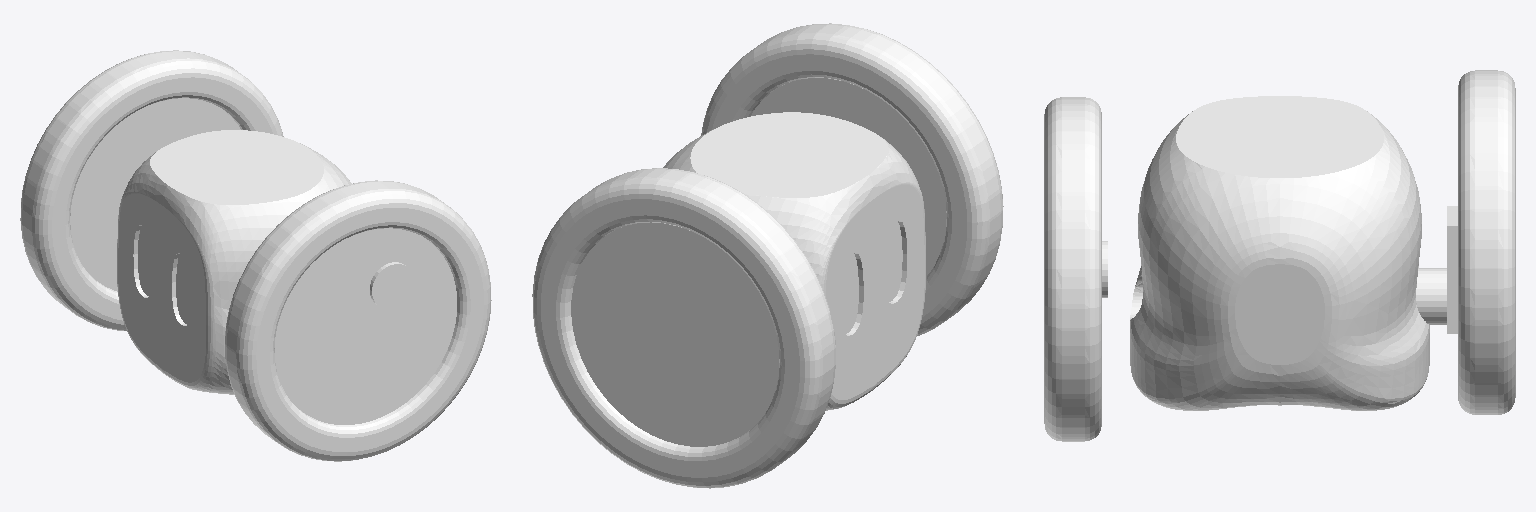
URDF robot description (dipan3):
<?xml version="1.0" encoding="utf-8"?>
<!-- ========================================
     两轮机器人URDF文件（带详细注释）
     从SolidWorks导出，已修正mesh路径
     ======================================== -->
<robot name="dipan3">

  <!-- ========================================
       车身 (base_link)
       ======================================== -->
  <link name="base_link">
    <!-- 惯性参数（从SolidWorks自动计算） -->
    <inertial>
      <!-- origin: 质心位置和姿态
           xyz: 质心相对于link坐标系的位置 [x, y, z] (米)
           rpy: 质心的姿态 [roll, pitch, yaw] (弧度) -->
      <origin xyz="-0.0457968657842876 -0.180241780708222 0.168747438914393" rpy="0 0 0"/>

      <!-- mass: 质量 (kg) -->
      <mass value="2.34280452853847"/>

      <!-- inertia: 惯性矩阵
           ixx, iyy, izz: 对角元素
           ixy, ixz, iyz: 非对角元素 -->
      <inertia ixx="0.0270841555878279" ixy="5.27026246917446E-06" ixz="0.000518162889673859"
               iyy="0.0245632562724463" iyz="-2.85242084819199E-05" izz="0.0250526892590732"/>
    </inertial>

    <!-- 视觉模型（用于显示） -->
    <visual>
      <origin xyz="0 0 0" rpy="0 0 0"/>
      <geometry>
        <!-- mesh: STL文件路径 -->
        <mesh filename="meshes/base_link.STL"/>
      </geometry>
      <material name="">
        <!-- color: RGBA颜色 [红, 绿, 蓝, 透明度]，范围0-1 -->
        <color rgba="1 1 1 1"/>
      </material>
    </visual>

    <!-- 碰撞模型（用于物理仿真） -->
    <collision>
      <origin xyz="0 0 0" rpy="0 0 0"/>
      <geometry>
        <mesh filename="meshes/base_link.STL"/>
      </geometry>
    </collision>
  </link>

  <!-- ========================================
       左侧轴 (left_link)
       ======================================== -->
  <link name="left_link">
    <inertial>
      <origin xyz="-0.0303803213063577 -0.0119270745134744 -0.0376376933793964" rpy="0 0 0"/>
      <mass value="0.128539816339745"/>
      <inertia ixx="5.54411480230313E-05" ixy="-2.47771833064358E-05" ixz="-2.50049220086457E-05"
               iyy="0.000108825591833062" iyz="-9.81673514882238E-06" izz="0.000118216123210881"/>
    </inertial>
    <visual>
      <origin xyz="0 0 0" rpy="0 0 0"/>
      <geometry>
        <mesh filename="meshes/left_link.STL"/>
      </geometry>
      <material name="">
        <color rgba="1 1 1 1"/>
      </material>
    </visual>
    <collision>
      <origin xyz="0 0 0" rpy="0 0 0"/>
      <geometry>
        <mesh filename="meshes/left_link.STL"/>
      </geometry>
    </collision>
  </link>

  <!-- ========================================
       左髋关节 (left_hip_joint)
       连接 base_link 和 left_link
       ======================================== -->
  <joint name="left_hip_joint" type="continuous">
    <!-- origin: 子link相对于父link的位置和姿态
         xyz: 位置偏移 [x, y, z] (米)
         rpy: 姿态 [roll, pitch, yaw] (弧度) -->
    <origin xyz="-0.018768 -0.36 0.1774" rpy="1.5708 -0.55608 0"/>

    <!-- parent: 父link -->
    <parent link="base_link"/>

    <!-- child: 子link -->
    <child link="left_link"/>

    <!-- axis: 关节旋转轴方向 [x, y, z]
         [1, 0, 0] = 绕X轴旋转
         [0, 1, 0] = 绕Y轴旋转
         [0, 0, 1] = 绕Z轴旋转

         ⚠️ 修改这里可以改变关节的旋转方向 -->
    <axis xyz="0 0 1"/>

    <!-- type: 关节类型
         continuous: 连续旋转（无限位）
         revolute: 旋转关节（有限位）
         prismatic: 移动关节
         fixed: 固定关节 -->
  </joint>

  <!-- ========================================
       左轮 (left_wheel_link)
       ======================================== -->
  <link name="left_wheel_link">
    <inertial>
      <origin xyz="-4.89340512555003E-12 1.85397498783657E-06 8.33036417624555E-11" rpy="0 0 0"/>
      <mass value="2.66875504346553"/>
      <inertia ixx="0.0168925048632516" ixy="-9.95334457215558E-13" ixz="4.5065584441071E-14"
               iyy="0.0168929806990138" iyz="1.69039962406978E-11" izz="0.0330384514494543"/>
    </inertial>
    <visual>
      <origin xyz="0 0 0" rpy="0 0 0"/>
      <geometry>
        <mesh filename="meshes/left_wheel_link.STL"/>
      </geometry>
      <material name="">
        <color rgba="1 1 1 1"/>
      </material>
    </visual>
    <collision>
      <origin xyz="0 0 0" rpy="0 0 0"/>
      <geometry>
        <mesh filename="meshes/left_wheel_link.STL"/>
      </geometry>
    </collision>
  </link>

  <!-- ========================================
       左轮关节 (left_wheel_joint)
       连接 left_link 和 left_wheel_link
       ======================================== -->
  <joint name="left_wheel_joint" type="continuous">
    <!-- origin为0表示轮子和轴在同一位置 -->
    <origin xyz="0 0 0" rpy="0 0 0"/>
    <parent link="left_link"/>
    <child link="left_wheel_link"/>
    <axis xyz="0 0 1"/>
  </joint>

  <!-- ========================================
       右侧轴 (right_link)
       ======================================== -->
  <link name="right_link">
    <inertial>
      <origin xyz="0.0226376933793956 -6.93889390390723E-17 -0.0173623066206043" rpy="0 0 0"/>
      <mass value="0.128539816339745"/>
      <inertia ixx="0.000118216123210881" ixy="2.96461531539005E-20" ixz="-2.68628817076756E-05"
               iyy="0.000118552918563736" iyz="7.96210970419042E-20" izz="4.57138212923579E-05"/>
    </inertial>
    <visual>
      <origin xyz="0 0 0" rpy="0 0 0"/>
      <geometry>
        <mesh filename="meshes/right_link.STL"/>
      </geometry>
      <material name="">
        <color rgba="1 1 1 1"/>
      </material>
    </visual>
    <collision>
      <origin xyz="0 0 0" rpy="0 0 0"/>
      <geometry>
        <mesh filename="meshes/right_link.STL"/>
      </geometry>
    </collision>
  </link>

  <!-- ========================================
       右髋关节 (right_hip_joint)
       连接 base_link 和 right_link
       ======================================== -->
  <joint name="right_hip_joint" type="continuous">
    <origin xyz="-0.048652 -0.015 0.13732" rpy="-3.0572 0 -1.5708"/>
    <parent link="base_link"/>
    <child link="right_link"/>

    <!-- ⚠️ 注意：右髋关节的轴向是 [1, 0, 0]（绕X轴）
         与左髋关节的 [0, 0, 1]（绕Z轴）不同 -->
    <axis xyz="1 0 0"/>
  </joint>

  <!-- ========================================
       右轮 (right_wheel_link)
       ======================================== -->
  <link name="right_wheel_link">
    <inertial>
      <origin xyz="-4.89339124776222E-12 1.85397498786433E-06 -0.0149999999166964" rpy="0 0 0"/>
      <mass value="2.66875504346553"/>
      <inertia ixx="0.0168925048632516" ixy="-9.95331855130344E-13" ixz="4.50674460995543E-14"
               iyy="0.0168929806990137" iyz="1.69040015746446E-11" izz="0.0330384514494543"/>
    </inertial>
    <visual>
      <origin xyz="0 0 0" rpy="0 0 0"/>
      <geometry>
        <mesh filename="meshes/right_wheel_link.STL"/>
      </geometry>
      <material name="">
        <color rgba="1 1 1 1"/>
      </material>
    </visual>
    <collision>
      <origin xyz="0 0 0" rpy="0 0 0"/>
      <geometry>
        <mesh filename="meshes/right_wheel_link.STL"/>
      </geometry>
    </collision>
  </link>

  <!-- ========================================
       右轮关节 (right_wheel_joint)
       连接 right_link 和 right_wheel_link
       ======================================== -->
  <joint name="right_wheel_joint" type="continuous">
    <origin xyz="0 0 -0.05" rpy="-1.5708 1.0128 -1.5708"/>
    <parent link="right_link"/>
    <child link="right_wheel_link"/>
    <axis xyz="0 0 1"/>
  </joint>

</robot>

<!-- ========================================
     修改指南
     ========================================

     1. 修改关节轴向：
        找到对应的 <axis xyz="..."/> 标签
        [1, 0, 0] = 绕X轴
        [0, 1, 0] = 绕Y轴
        [0, 0, 1] = 绕Z轴

     2. 修改关节位置：
        找到对应的 <origin xyz="..." rpy="..."/>
        xyz: 位置 [x, y, z] (米)
        rpy: 姿态 [roll, pitch, yaw] (弧度)

     3. 修改颜色：
        找到 <color rgba="..."/>
        rgba: [红, 绿, 蓝, 透明度]，范围0-1
        例如：rgba="1 0 0 1" = 红色

     4. 修改关节类型：
        type="continuous" - 连续旋转
        type="revolute" - 有限位旋转
        type="prismatic" - 移动关节
        type="fixed" - 固定

     5. 添加关节限位（仅revolute类型）：
        <limit lower="-1.57" upper="1.57" effort="100" velocity="10"/>

     ======================================== -->

--- Render facts (derived) ---
3 views of the same robot in one strip: view 1: azimuth 30°, elevation 25°; view 2: azimuth 150°, elevation 25°; view 3: azimuth 270°, elevation 25° (orthographic).
Robot: dipan3 — 5 links, 4 joints (4 continuous); root link base_link; default pose: every joint at zero.
Links seen in each view (by area): view 1: left_wheel_link, base_link, right_wheel_link, left_link; view 2: right_wheel_link, base_link, left_wheel_link; view 3: base_link, right_wheel_link, left_wheel_link, right_link.
Boxes of the visible links, box(x1,y1,x2,y2) form: left_wheel_link: box(225, 180, 491, 461); base_link: box(117, 130, 351, 394); right_wheel_link: box(20, 50, 283, 330); left_link: box(370, 262, 413, 308); right_wheel_link: box(532, 168, 835, 488); base_link: box(663, 112, 925, 410); left_wheel_link: box(701, 23, 1003, 335); base_link: box(1130, 96, 1429, 410); right_wheel_link: box(1458, 70, 1515, 414); left_wheel_link: box(1044, 97, 1101, 441); right_link: box(1416, 206, 1457, 333).
Size in the robot's own frame: 0.3339 by 0.41 by 0.3097 metres.
Meshes: 5 distinct files referenced, 5 mesh visuals loaded (5 binary STL).
